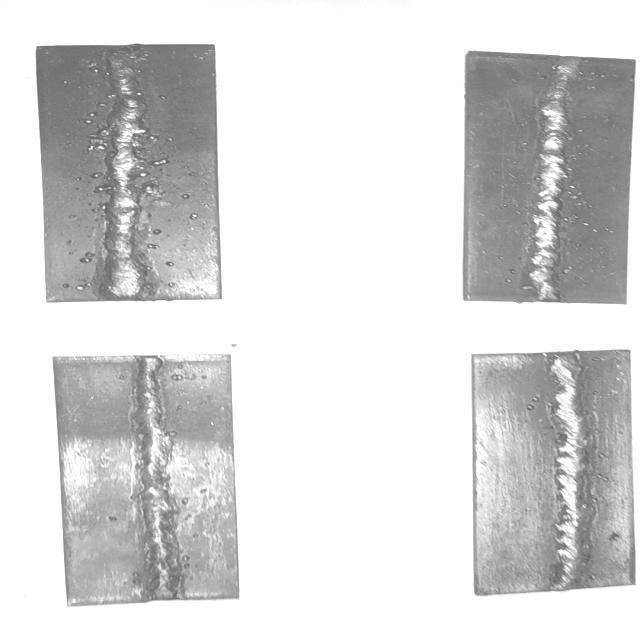Defect: (136, 132, 171, 176), (80, 118, 119, 156), (90, 172, 116, 198)
Welding Line: (540, 355, 590, 584), (132, 356, 176, 594), (100, 50, 141, 299), (534, 58, 574, 299)
Workpiece: (30, 41, 227, 306), (51, 350, 248, 606), (455, 45, 640, 308), (467, 348, 640, 598)
